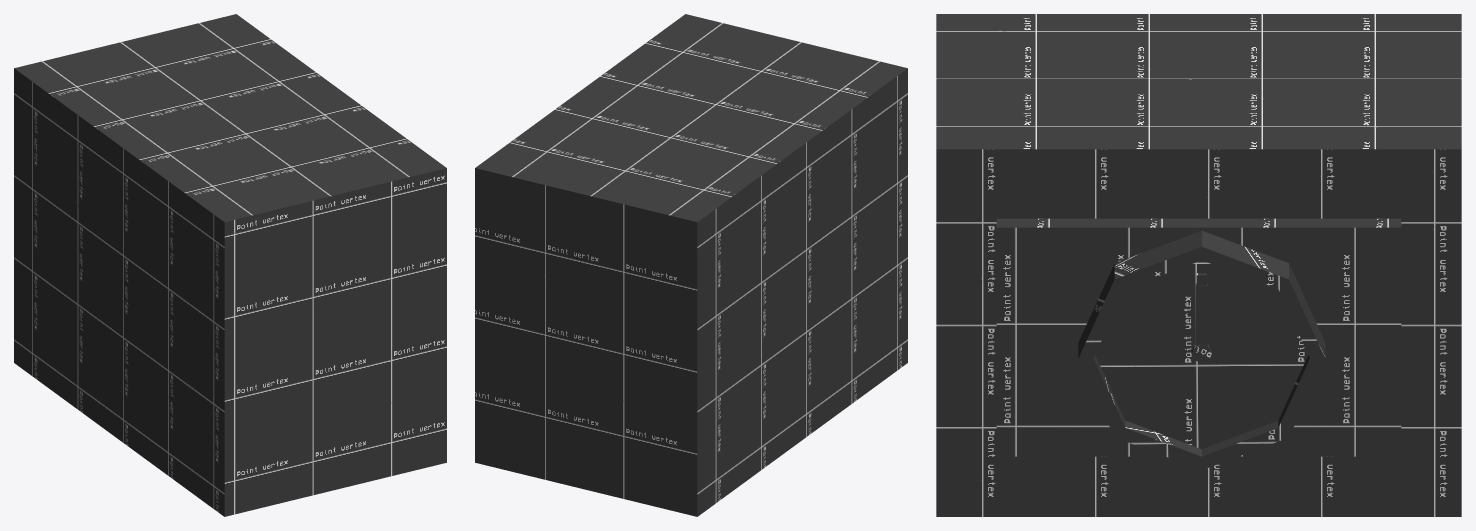
File: SafeWithClock.fbx
3 renders of one model, left to right at view 1: azimuth 30°, elevation 25°; view 2: azimuth 150°, elevation 25°; view 3: azimuth 270°, elevation 25°, orthographic. The views are drawn at different scales.
Visible parts, largest first — view 1: Cabinet; view 2: Cabinet; view 3: Cabinet, Door, Clock, HourStick.
Boxes of the visible parts, left/top/right/bottom form: Cabinet: left=14, top=14, right=446, bottom=516; Cabinet: left=475, top=14, right=907, bottom=516; Cabinet: left=936, top=14, right=1461, bottom=516; Door: left=996, top=218, right=1401, bottom=456; Clock: left=1078, top=230, right=1325, bottom=469; HourStick: left=1195, top=283, right=1207, bottom=346.
Size of the model in its own units: 300 by 321 by 415.
1 material, 1 textured.
